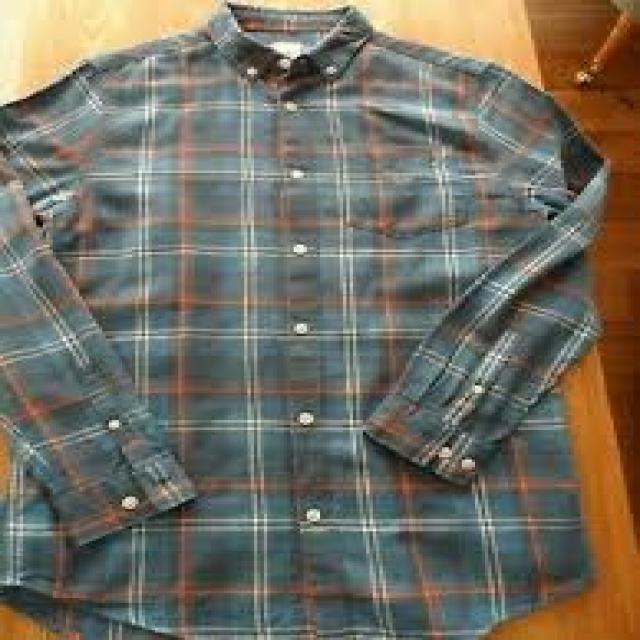plaid: (12, 4, 626, 638)
